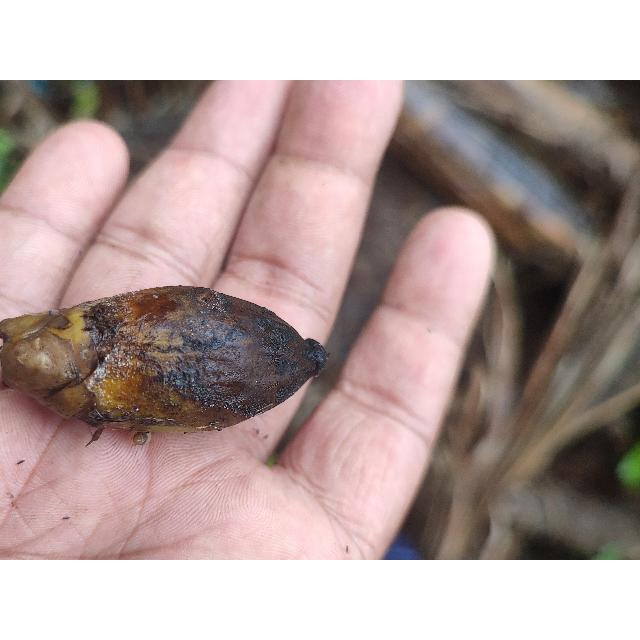damaged: (0, 285, 329, 437)
